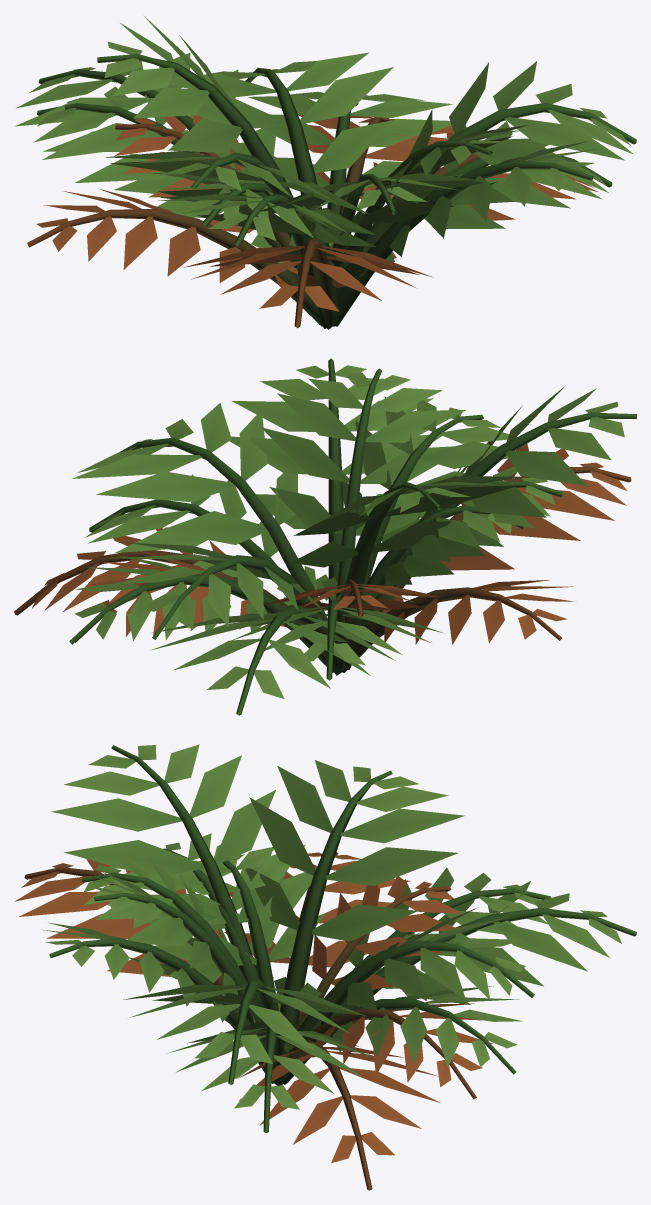
The model's file is fernlet.glb.
3 renders of one model, top to bottom at view 1: azimuth 30°, elevation 25°; view 2: azimuth 150°, elevation 25°; view 3: azimuth 270°, elevation 25°, orthographic. The views are drawn at different scales.
Visible parts, largest first — view 1: fernlet0, fernlet2, fernlet1; view 2: fernlet0, fernlet2, fernlet1; view 3: fernlet0, fernlet2, fernlet1.
Boxes of the visible parts, x1,y1,x2,y2 form: fernlet0: (15,16,636,328); fernlet2: (27,114,598,329); fernlet1: (33,86,612,326); fernlet0: (72,358,636,715); fernlet2: (14,368,631,672); fernlet1: (69,396,562,680); fernlet0: (41,744,636,1085); fernlet2: (15,844,493,1190); fernlet1: (82,833,550,1132).
Size of the model in its own units: 0.8791 by 0.3995 by 0.9264.
